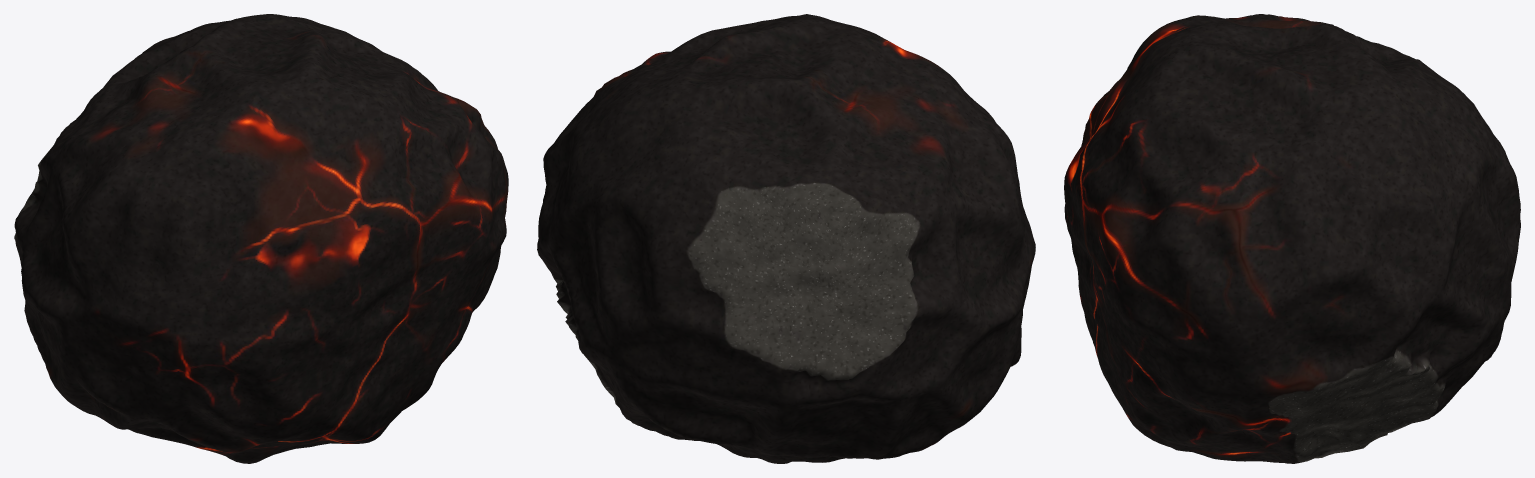
Rendered from meteorito_genesis19.glb.
3 renders of one model, left to right at view 1: azimuth 30°, elevation 25°; view 2: azimuth 150°, elevation 25°; view 3: azimuth 270°, elevation 25°, orthographic. The views are drawn at different scales.
Parts seen in each view (by area): view 1: Meteorito; view 2: Meteorito; view 3: Meteorito.
Part boxes in pixels (x1,y1,x2,y2): Meteorito: (14,14,508,463); Meteorito: (537,14,1035,463); Meteorito: (1064,14,1520,463).
Size of the model in its own units: 2.08 by 1.74 by 1.78.
Materials: 1 (1 with a texture image).
